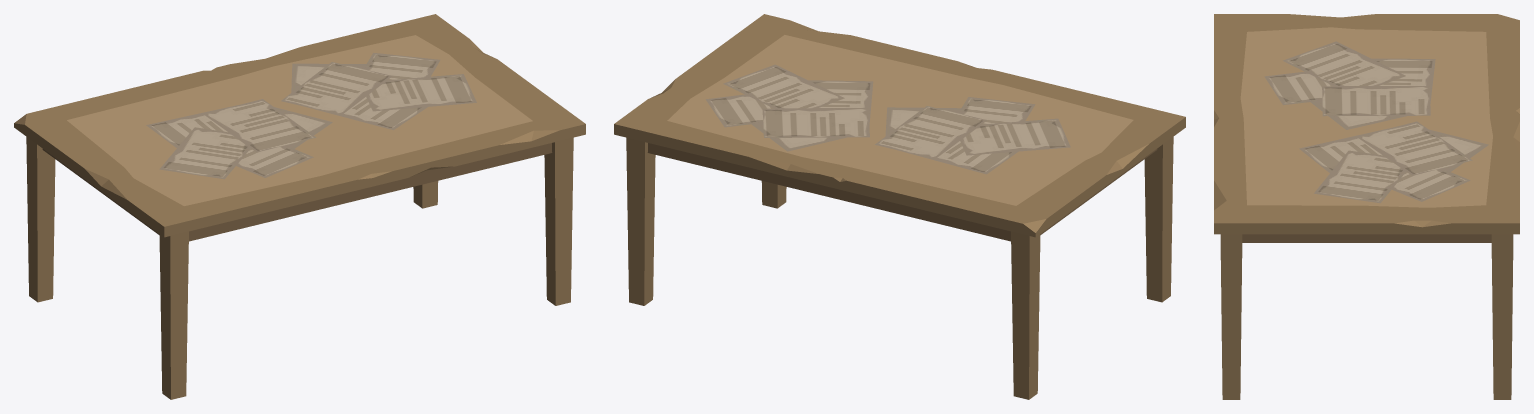
Rendered from SM_DiningTable_Paper.fbx.
The picture shows the model from 3 angles, left to right: view 1: azimuth 30°, elevation 25°; view 2: azimuth 150°, elevation 25°; view 3: azimuth 270°, elevation 25°; orthographic projection.
Parts seen in each view (by area): view 1: SM_DiningTable_Paper; view 2: SM_DiningTable_Paper; view 3: SM_DiningTable_Paper.
Boxes of the visible parts, left/top/right/bottom form: SM_DiningTable_Paper: left=14, top=14, right=585, bottom=399; SM_DiningTable_Paper: left=614, top=14, right=1185, bottom=399; SM_DiningTable_Paper: left=1214, top=14, right=1519, bottom=399.
Size of the model in its own units: 210 by 85.28 by 130.
